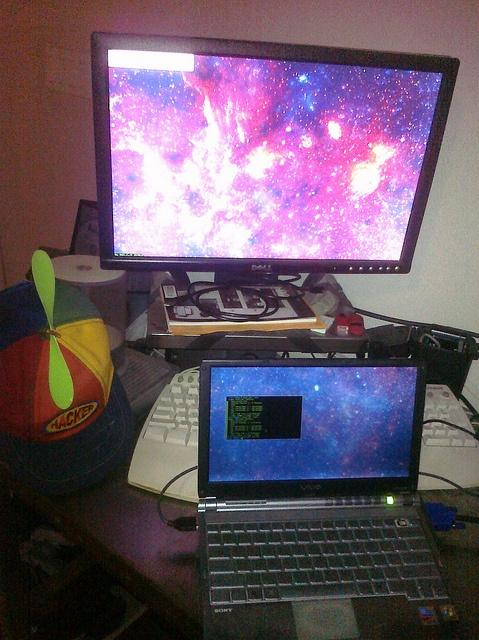AIO PC-Monitor-TV: (88, 29, 460, 286)
